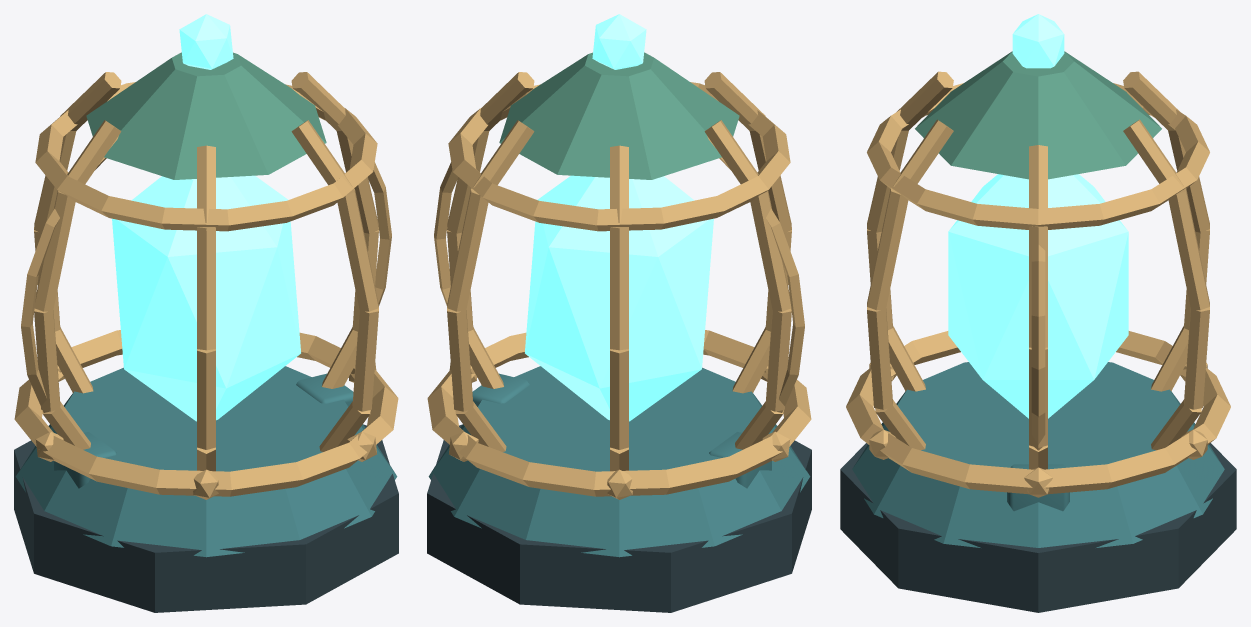
The model's file is growth-reactor.glb.
3 renders of one model, left to right at view 1: azimuth 30°, elevation 25°; view 2: azimuth 150°, elevation 25°; view 3: azimuth 270°, elevation 25°, orthographic.
Visible parts, largest first — view 1: growth-reactor / Brass | growth warm machined fittings, growth-reactor / Paint | growth Prussian petrol enamel, growth-reactor / Lamp | growth luminous mint glass, Armored reactor octagonal foot, Verdigris reactor crown; view 2: growth-reactor / Brass | growth warm machined fittings, growth-reactor / Paint | growth Prussian petrol enamel, growth-reactor / Lamp | growth luminous mint glass, Armored reactor octagonal foot, Verdigris reactor crown; view 3: growth-reactor / Brass | growth warm machined fittings, growth-reactor / Paint | growth Prussian petrol enamel, growth-reactor / Lamp | growth luminous mint glass, Armored reactor octagonal foot, Verdigris reactor crown.
Part boxes in pixels (box(x1,y1,x2,y2)): growth-reactor / Brass | growth warm machined fittings: box(14, 72, 398, 499); growth-reactor / Paint | growth Prussian petrol enamel: box(15, 366, 397, 557); growth-reactor / Lamp | growth luminous mint glass: box(112, 14, 300, 421); Armored reactor octagonal foot: box(14, 424, 398, 612); Verdigris reactor crown: box(86, 52, 326, 179); growth-reactor / Brass | growth warm machined fittings: box(427, 72, 811, 499); growth-reactor / Paint | growth Prussian petrol enamel: box(428, 366, 810, 557); growth-reactor / Lamp | growth luminous mint glass: box(525, 14, 713, 421); Armored reactor octagonal foot: box(427, 424, 811, 612); Verdigris reactor crown: box(499, 52, 739, 179); growth-reactor / Brass | growth warm machined fittings: box(846, 71, 1230, 497); growth-reactor / Paint | growth Prussian petrol enamel: box(852, 362, 1224, 547); growth-reactor / Lamp | growth luminous mint glass: box(948, 14, 1128, 418); Armored reactor octagonal foot: box(840, 443, 1236, 612); Verdigris reactor crown: box(915, 51, 1161, 179).
Size of the model in its own units: 1.55 by 2.07 by 1.44.
